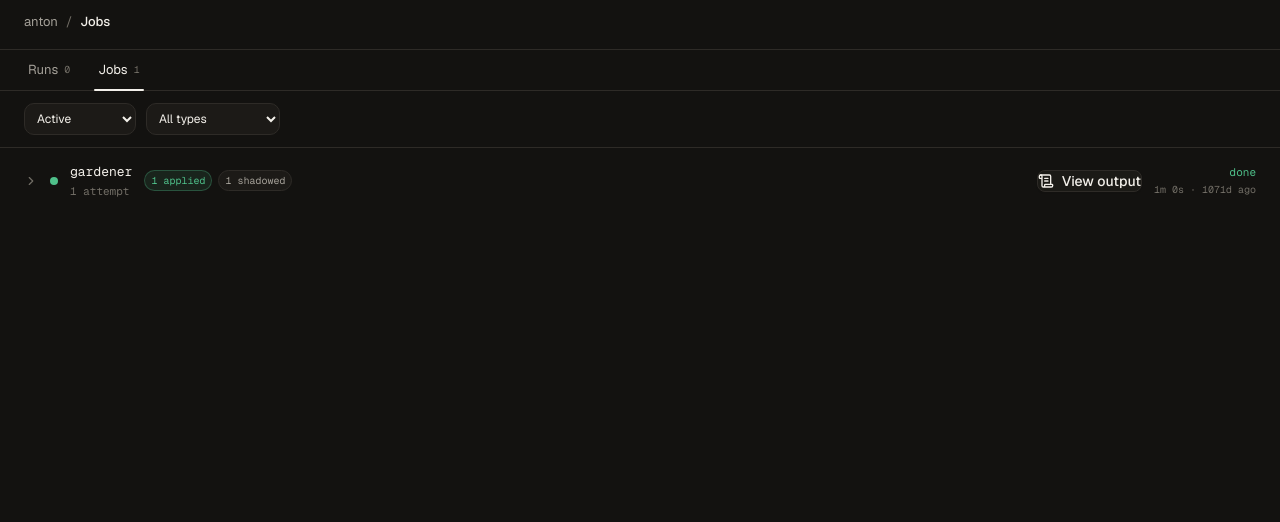
Test: jobs page — what each pass applied, shadowed and refused › shows what an EARLIER attempt applied, not just the retry that succeeded
Click the button "gardener 1 attempt 1 applied 1 shadowed" at (101, 171), box [24,162,1025,200]
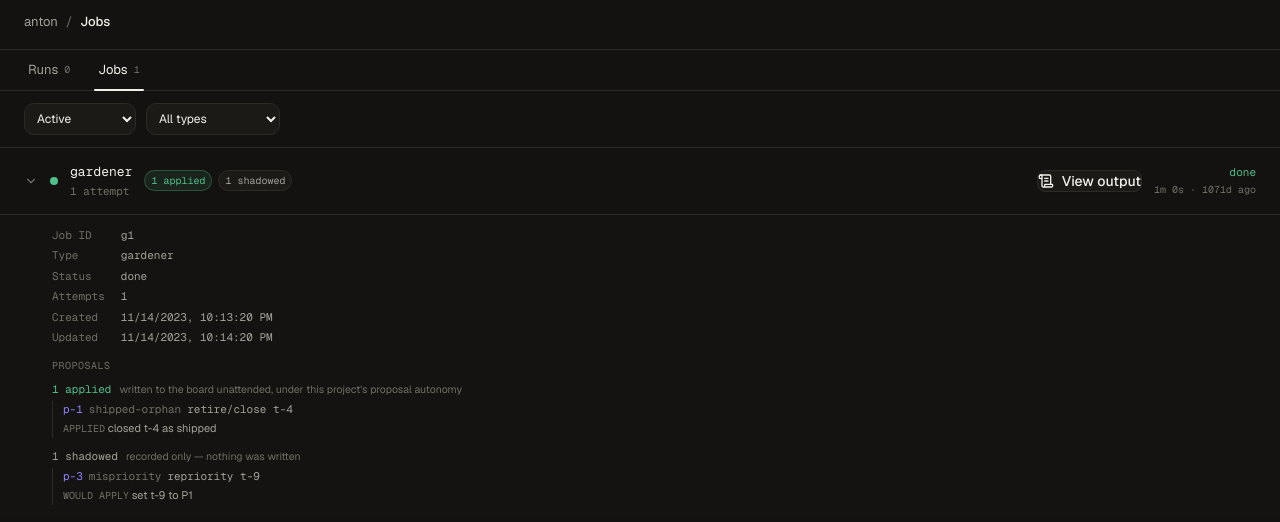
Result: the text "closed t-4 as shipped" is shown at [108,421,217,435]
Result: the text "set t-9 to P1" is shown at [132,488,193,502]
